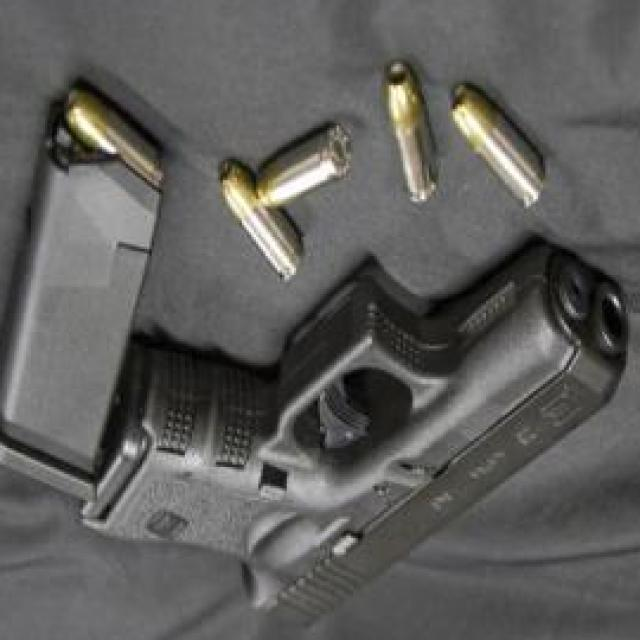pistol: (78, 244, 640, 626)
